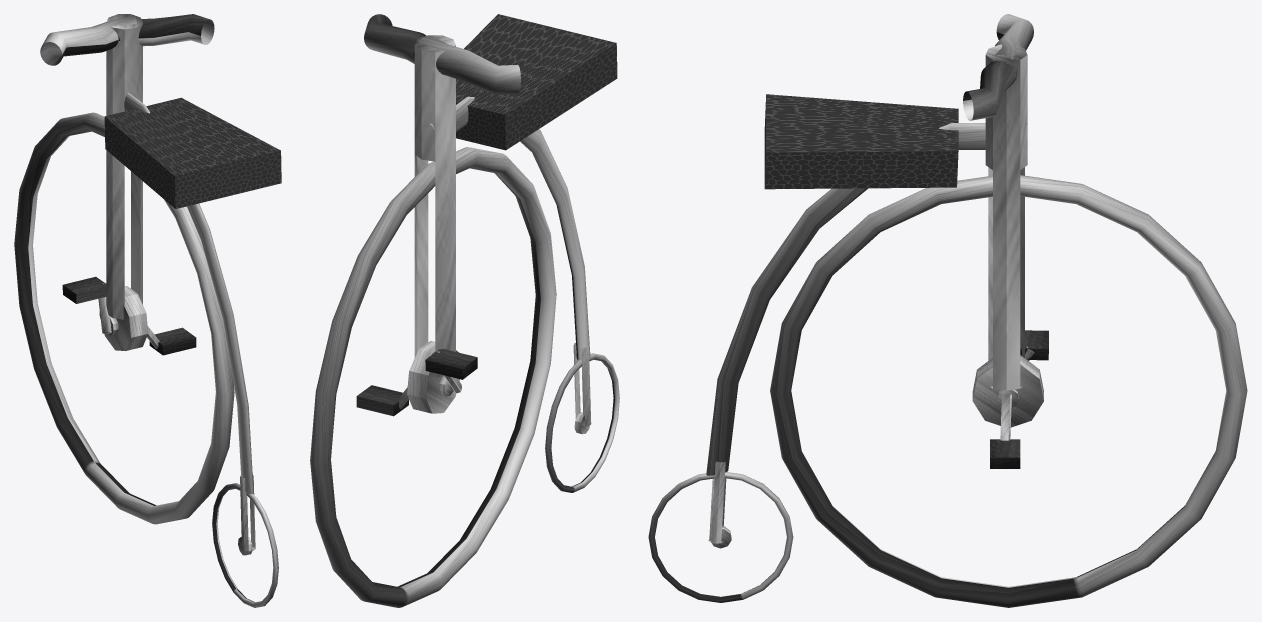
Rendered from bike fbx.fbx.
The picture shows the model from 3 angles, left to right: view 1: azimuth 30°, elevation 25°; view 2: azimuth 150°, elevation 25°; view 3: azimuth 270°, elevation 25°; orthographic projection. The views are drawn at different scales.
Visible parts, largest first — view 1: pTorus1 (×2), pCube2, pCylinder5, pTorus4, pTorus5, pTorus2, pCube1 (×2), pCylinder1, pCylinder4; view 2: pTorus1 (×2), pCube2, pCylinder5, pTorus4, pTorus5, pCube1 (×2), pCylinder1, pTorus2, pCylinder4; view 3: pTorus1 (×2), pCube2, pCylinder5, pTorus4, pCylinder1, pTorus2, pTorus5, pCylinder4, pCube1.
Boxes of the visible parts, x1,y1,x2,y2 form: pTorus1 (×2): (14, 112, 278, 607); pCube2: (104, 97, 281, 208); pCylinder5: (106, 14, 142, 319); pTorus4: (124, 93, 253, 493); pTorus5: (40, 16, 137, 65); pTorus2: (117, 14, 214, 46); pCube1 (×2): (62, 276, 196, 355); pCylinder1: (99, 286, 148, 350); pCylinder4: (240, 474, 255, 551); pTorus1 (×2): (310, 147, 619, 607); pCube2: (456, 14, 617, 150); pCylinder5: (414, 35, 455, 377); pTorus4: (427, 96, 590, 359); pTorus5: (413, 35, 520, 94); pCube1 (×2): (356, 349, 477, 416); pCylinder1: (407, 341, 459, 413); pTorus2: (364, 14, 442, 74); pCylinder4: (573, 342, 591, 426); pTorus1 (×2): (648, 175, 1247, 607); pCube2: (764, 94, 958, 189); pCylinder5: (985, 44, 1027, 390); pTorus4: (706, 123, 1027, 475); pCylinder1: (972, 355, 1043, 427); pTorus2: (963, 61, 1017, 120); pTorus5: (994, 14, 1033, 74); pCylinder4: (708, 461, 726, 543); pCube1: (990, 439, 1020, 468).
Size of the model in its own units: 5.74 by 17.36 by 16.91.
